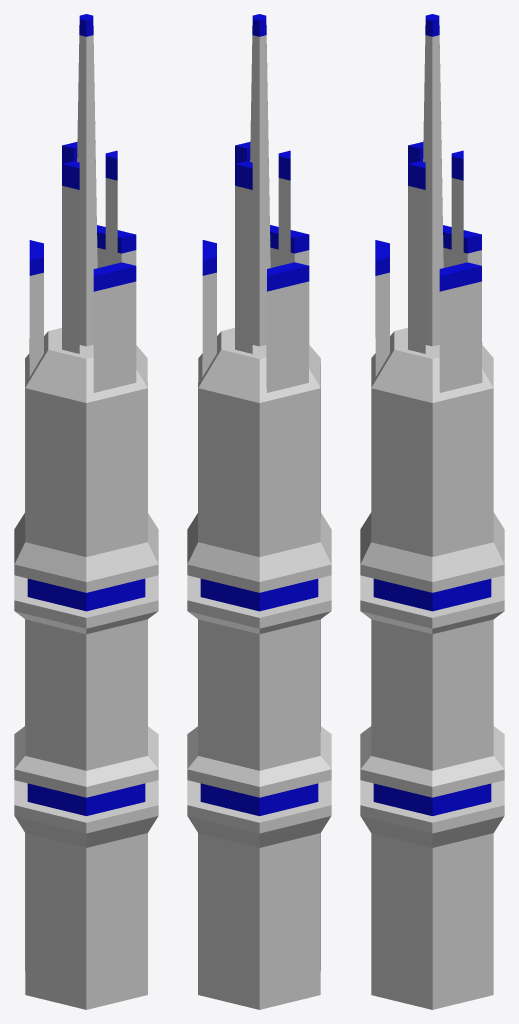
Rendered from FortressWallCornerSpiked.fbx.
The picture shows the model from 3 angles, left to right: view 1: azimuth 30°, elevation 25°; view 2: azimuth 150°, elevation 25°; view 3: azimuth 270°, elevation 25°; orthographic projection.
Visible parts, largest first — view 1: FortressWallCornerSpikedMesh; view 2: FortressWallCornerSpikedMesh; view 3: FortressWallCornerSpikedMesh.
Boxes of the visible parts, x1=… form: FortressWallCornerSpikedMesh: x1=14, y1=14, x2=158, y2=1009; FortressWallCornerSpikedMesh: x1=187, y1=14, x2=331, y2=1009; FortressWallCornerSpikedMesh: x1=360, y1=14, x2=504, y2=1009.
Size of the model in its own units: 442 by 2820 by 383.
